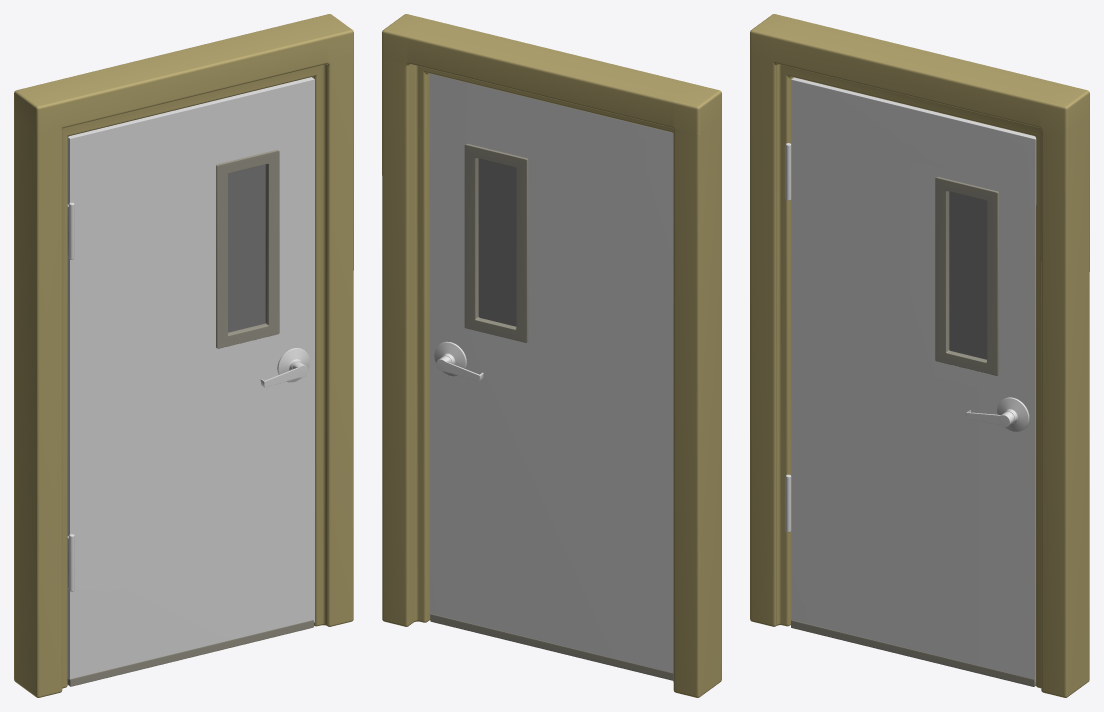
Rendered from MS Average Door.fbx.
3 renders of one model, left to right at view 1: azimuth 30°, elevation 25°; view 2: azimuth 150°, elevation 25°; view 3: azimuth 330°, elevation 25°, orthographic.
Parts seen in each view (by area): view 1: Door, Door Frame, Window, Door Seal, Hinge, Handle Base001; view 2: Door, Door Frame, Window, Door Seal, Handle Base; view 3: Door, Door Frame, Window, Door Seal, Hinge, Handle Base001.
Part boxes in pixels (x1=…): Door: x1=67, y1=77, x2=314, y2=679; Door Frame: x1=14, y1=14, x2=353, y2=697; Window: x1=216, y1=149, x2=279, y2=348; Door Seal: x1=67, y1=620, x2=313, y2=686; Hinge: x1=69, y1=202, x2=74, y2=591; Handle Base001: x1=277, y1=348, x2=309, y2=382; Door: x1=429, y1=73, x2=673, y2=672; Door Frame: x1=382, y1=14, x2=721, y2=697; Window: x1=464, y1=143, x2=528, y2=342; Door Seal: x1=430, y1=614, x2=673, y2=680; Handle Base: x1=434, y1=341, x2=466, y2=376; Door: x1=791, y1=77, x2=1036, y2=682; Door Frame: x1=750, y1=14, x2=1089, y2=697; Window: x1=935, y1=177, x2=998, y2=375; Door Seal: x1=791, y1=620, x2=1035, y2=686; Hinge: x1=785, y1=143, x2=791, y2=532; Handle Base001: x1=997, y1=397, x2=1029, y2=431.
Bounding box in the file's own units: 51.12 × 91 × 8.12.
